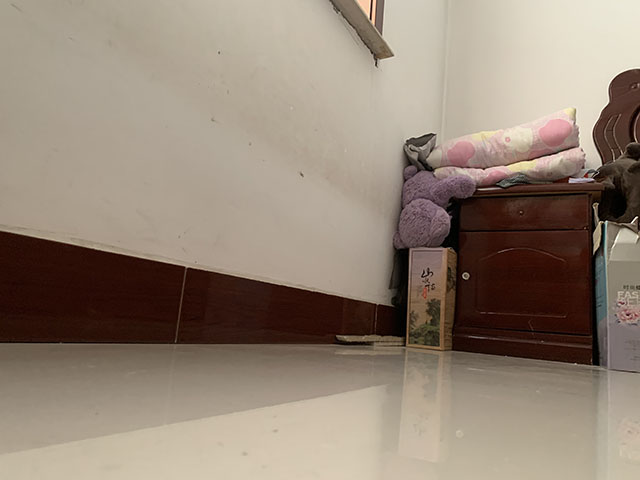cabinet: (452, 180, 608, 367)
